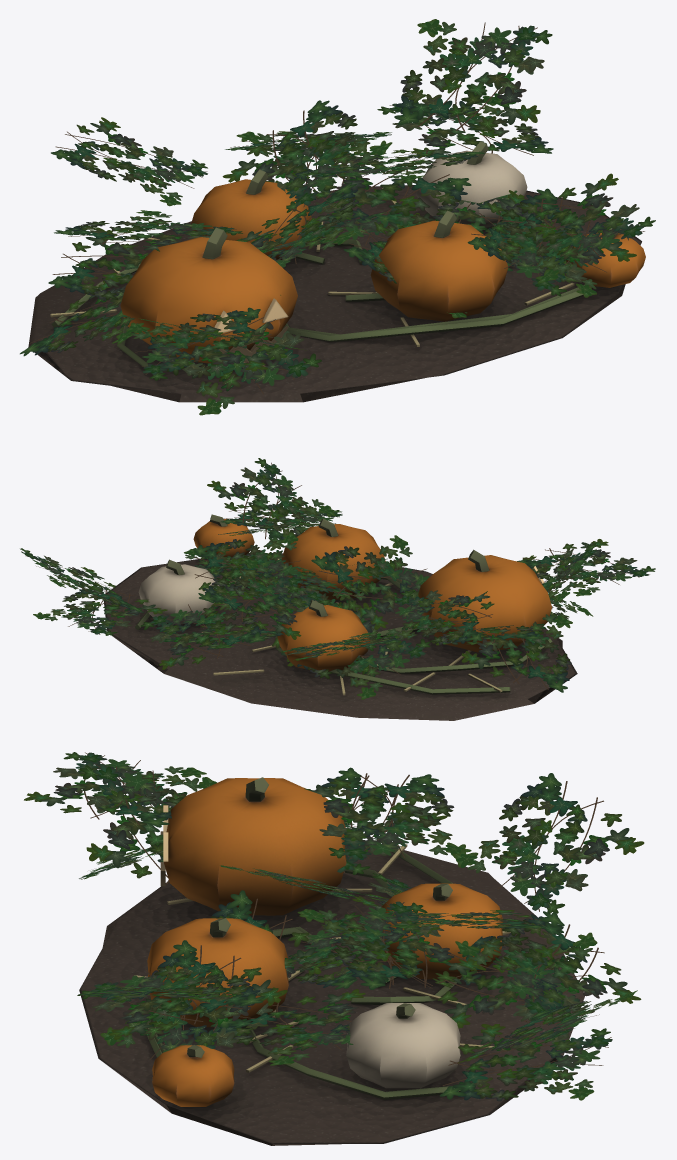
The model's file is PumpkinPatch.fbx.
3 views of the same model, one above another, from view 1: azimuth 30°, elevation 25°; view 2: azimuth 150°, elevation 25°; view 3: azimuth 270°, elevation 25° (orthographic). The views are drawn at different scales.
Visible parts, largest first — view 1: PumpkinPatch_Main, PumpkinPatch_Leaves, PumpkinPatch_Glow; view 2: PumpkinPatch_Main, PumpkinPatch_Leaves; view 3: PumpkinPatch_Main, PumpkinPatch_Leaves.
Part boxes in pixels (x1,y1,x2,y2): PumpkinPatch_Main: (28,141,645,402); PumpkinPatch_Leaves: (20,19,655,415); PumpkinPatch_Glow: (213,298,288,362); PumpkinPatch_Main: (103,514,577,720); PumpkinPatch_Leaves: (20,458,655,699); PumpkinPatch_Main: (79,777,584,1145); PumpkinPatch_Leaves: (24,752,644,1101).
Bounding box in the file's own units: 654 × 125 × 525.
